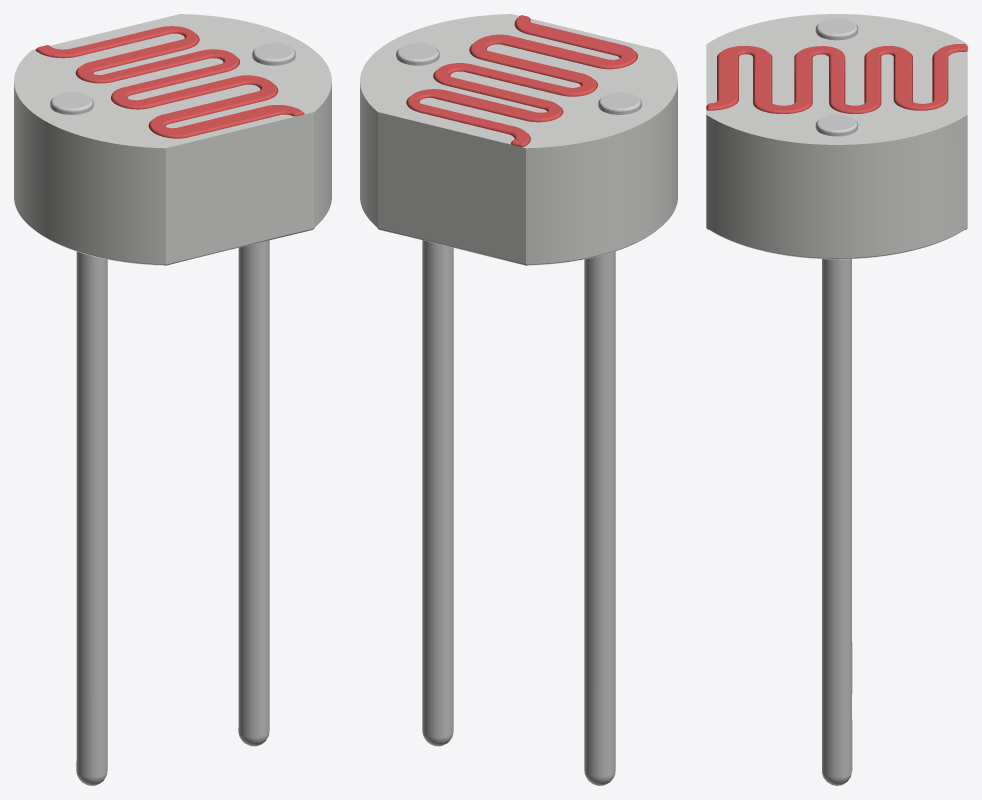
Rendered from ldr.glb.
3 views of the same model, side by side, from view 1: azimuth 30°, elevation 25°; view 2: azimuth 150°, elevation 25°; view 3: azimuth 270°, elevation 25° (orthographic). The views are drawn at different scales.
Size of the model in its own units: 0.0051 by 0.0122 by 0.0043.
